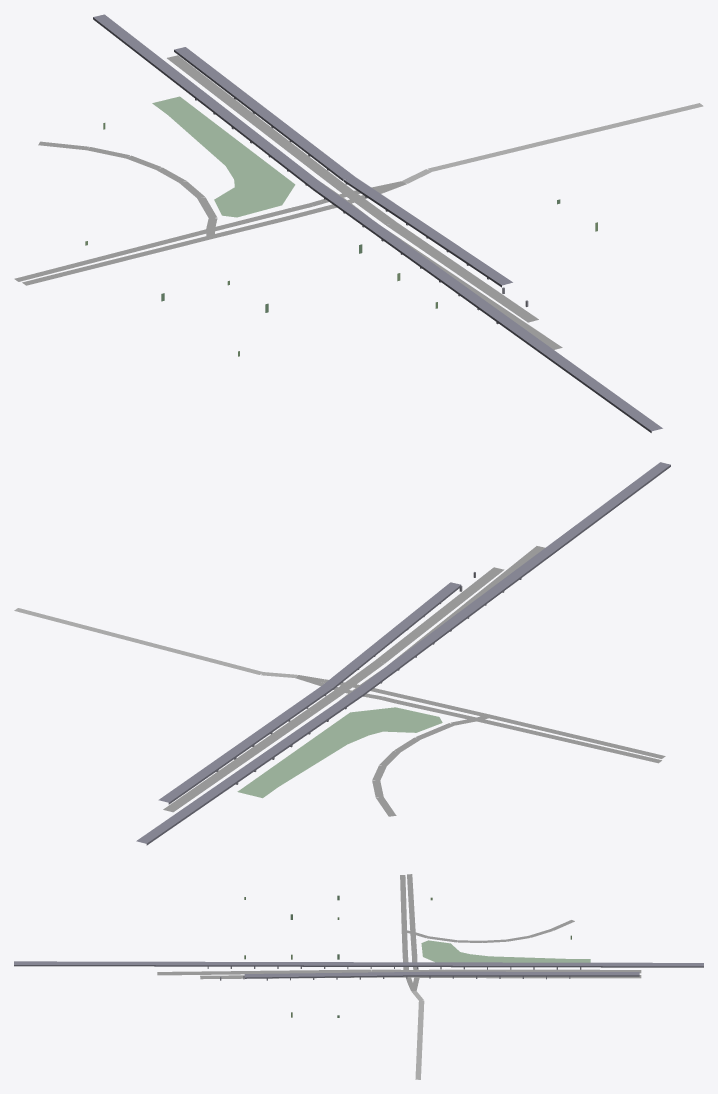
3 renders of one model, top to bottom at view 1: azimuth 30°, elevation 25°; view 2: azimuth 150°, elevation 25°; view 3: azimuth 270°, elevation 25°, orthographic. The views are drawn at different scales.
Size of the model in its own units: 630 by 9.6 by 889.
